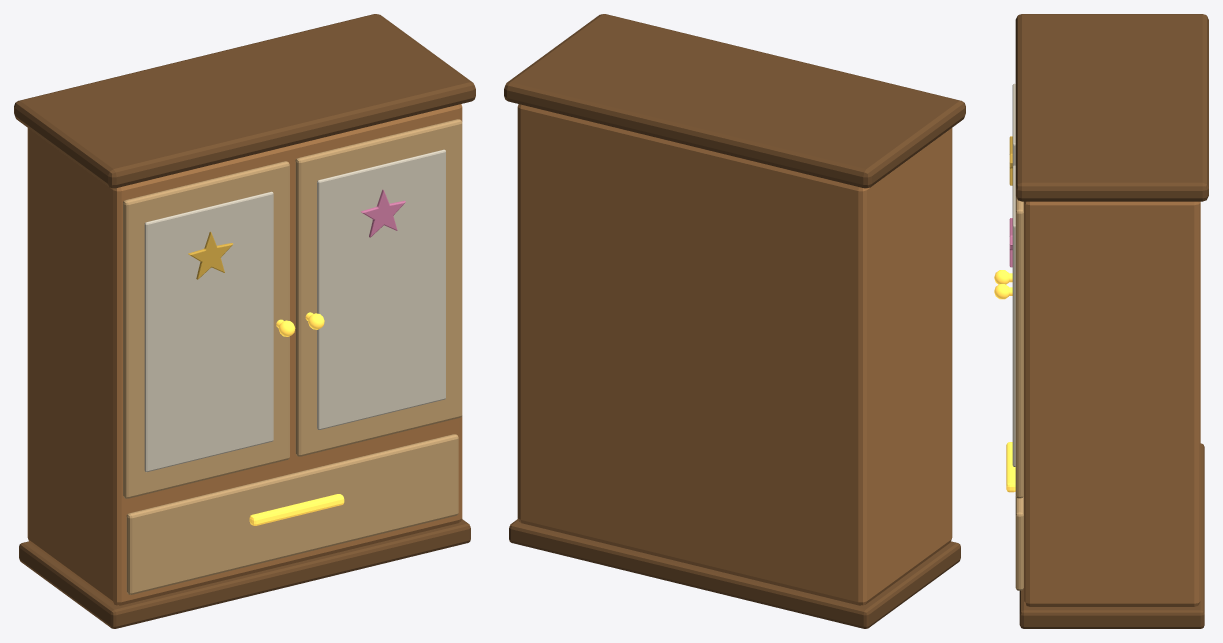
Rendered from guarda-roupa.glb.
3 renders of one model, left to right at view 1: azimuth 30°, elevation 25°; view 2: azimuth 150°, elevation 25°; view 3: azimuth 270°, elevation 25°, orthographic. The views are drawn at different scales.
Parts seen in each view (by area): view 1: guarda-roupa; view 2: guarda-roupa; view 3: guarda-roupa.
Boxes of the visible parts, x1,y1,x2,y2 form: guarda-roupa: (14,14,475,628); guarda-roupa: (504,14,965,628); guarda-roupa: (994,14,1208,628).
Bounding box in the file's own units: 2 × 2.4 × 1.05.
